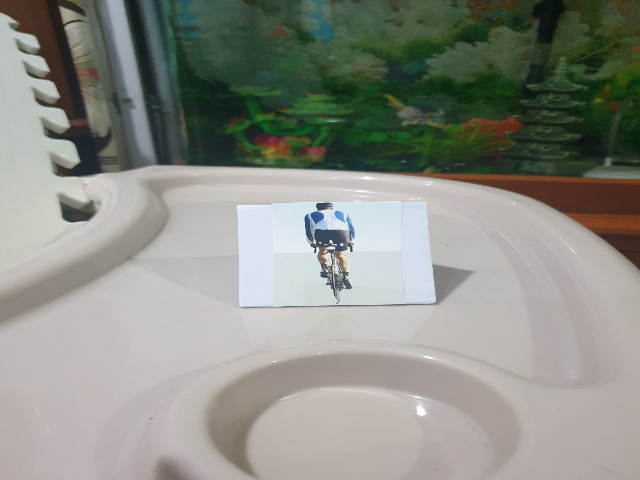Cyclist: (285, 202, 378, 304)
